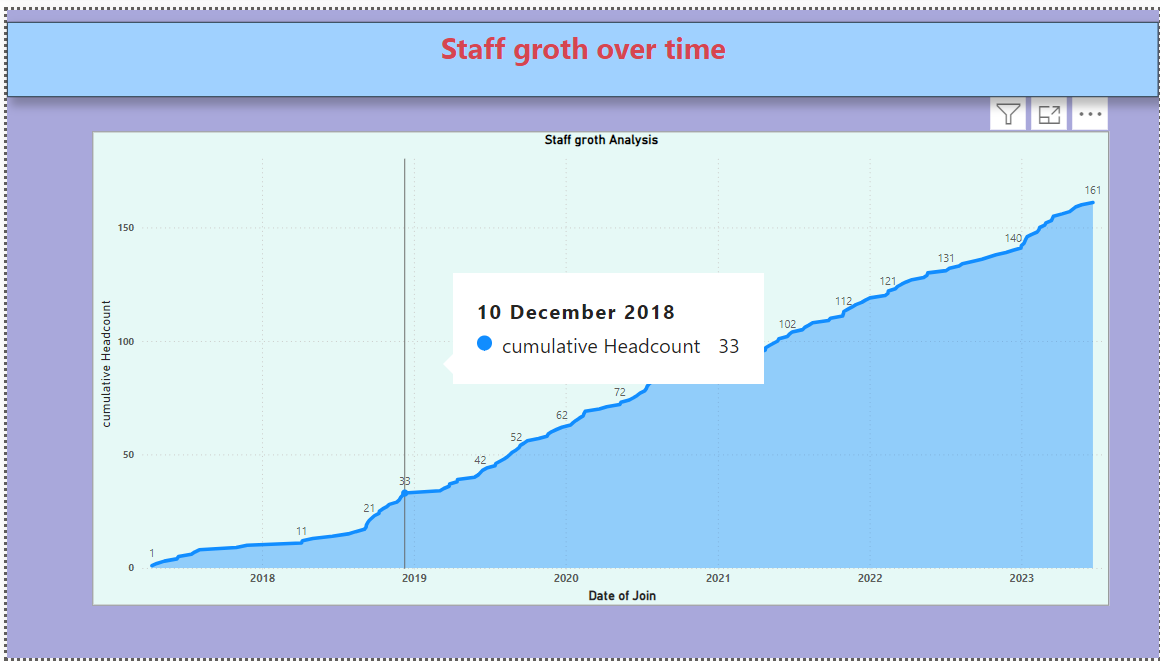

The dashboard page shown, as its layout file describes it:
{"tool":"powerbi","page":{"name":"Q7","canvas":[1280,720],"ordinal":7},"visuals":[{"type":"lineChart","title":"Staff groth Analysis","fields":{"Y":["staff.cumulative Headcount"],"Category":["staff.Date of Join"]},"box":[95.4,134.8,1129.6,526.9],"z":0},{"type":"textbox","box":[0,13.6,1279.5,83.3],"z":1000}]}

Visuals, with their boxes in screenshot pixels (x1, y1, x2, y2), scaled from the page's 1280x720 canvas onto the 1160x661 screenshot:
"Staff groth Analysis" lineChart: x1=86, y1=124, x2=1110, y2=607
textbox: x1=0, y1=12, x2=1159, y2=89
